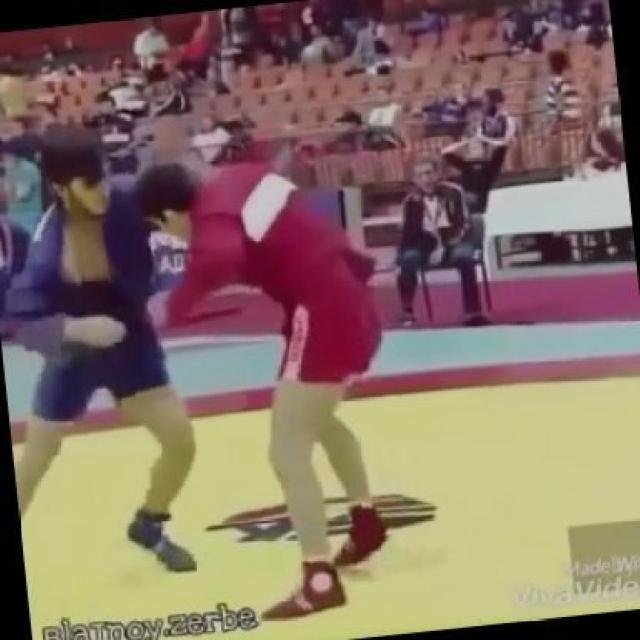fight: (1, 71, 454, 631)
non-fight: (369, 137, 502, 335)
